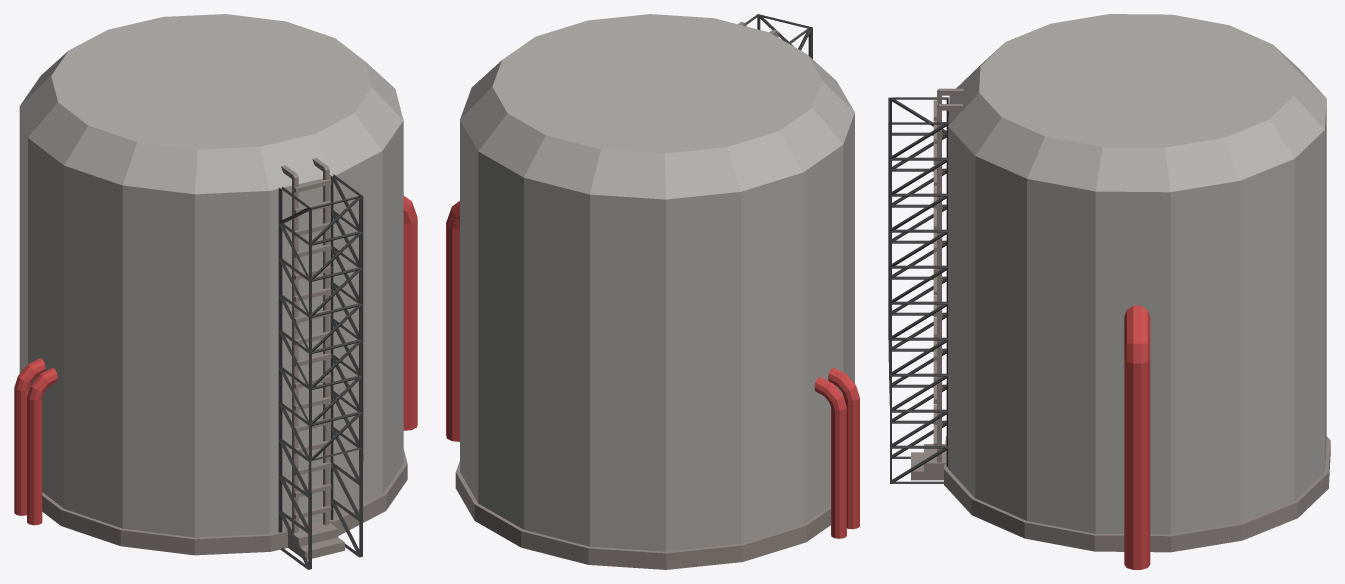
The model's file is Factory_02.fbx.
3 views of the same model, side by side, from view 1: azimuth 30°, elevation 25°; view 2: azimuth 150°, elevation 25°; view 3: azimuth 270°, elevation 25° (orthographic). The views are drawn at different scales.
Visible parts, largest first — view 1: Factory_02; view 2: Factory_02; view 3: Factory_02.
Part boxes in pixels (x1,y1,x2,y2): Factory_02: (14, 14, 417, 569); Factory_02: (446, 14, 859, 569); Factory_02: (888, 14, 1330, 569).
Size of the model in its own units: 13.11 by 12.43 by 12.77.
